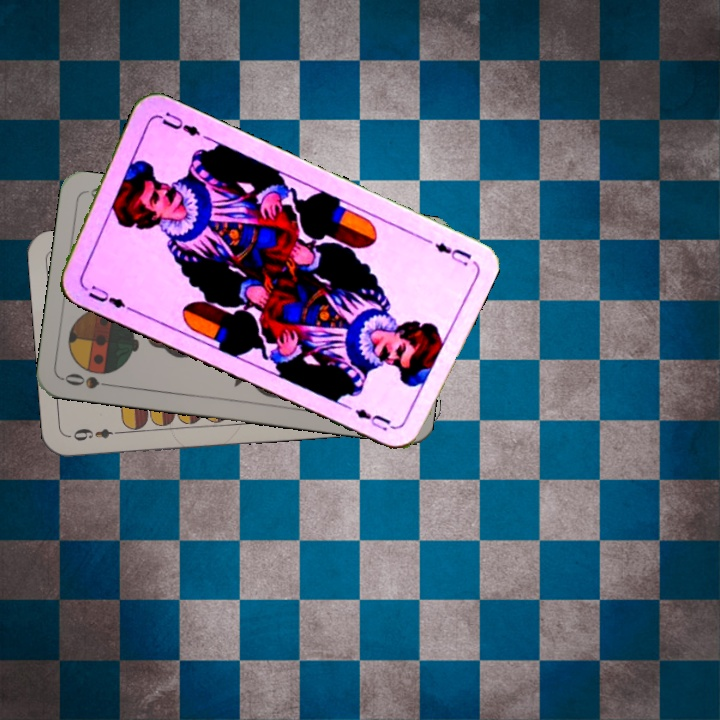E9: (66, 424, 125, 444)
EU: (78, 280, 133, 313), (431, 238, 474, 269)
SO: (60, 369, 119, 392)
